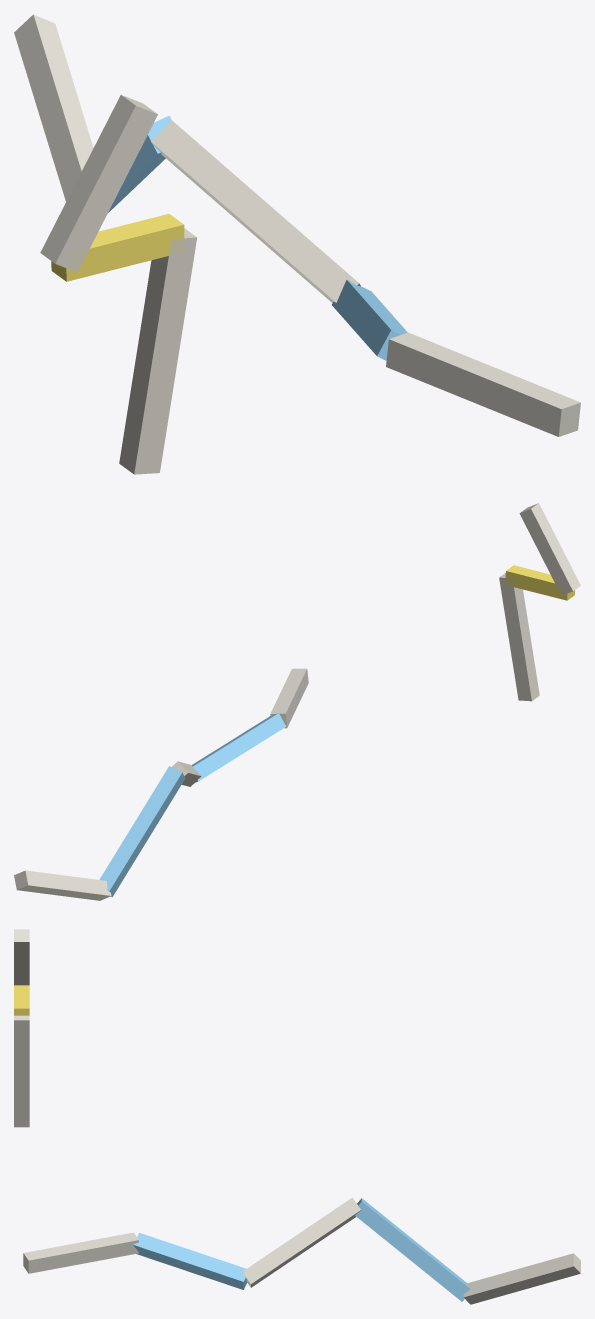
3 views of the same model, one above another, from view 1: azimuth 30°, elevation 25°; view 2: azimuth 150°, elevation 25°; view 3: azimuth 270°, elevation 25° (orthographic). The views are drawn at different scales.
Visible parts, largest first — view 1: t30_g10_p5; view 2: t30_g10_p5; view 3: t30_g10_p5.
Boxes of the visible parts, box(x1,y1,x2,y2) form: t30_g10_p5: box(14, 14, 580, 474); t30_g10_p5: box(14, 503, 580, 900); t30_g10_p5: box(14, 929, 580, 1304).
Size of the model in its own units: 3.75 by 3.53 by 6.58.
